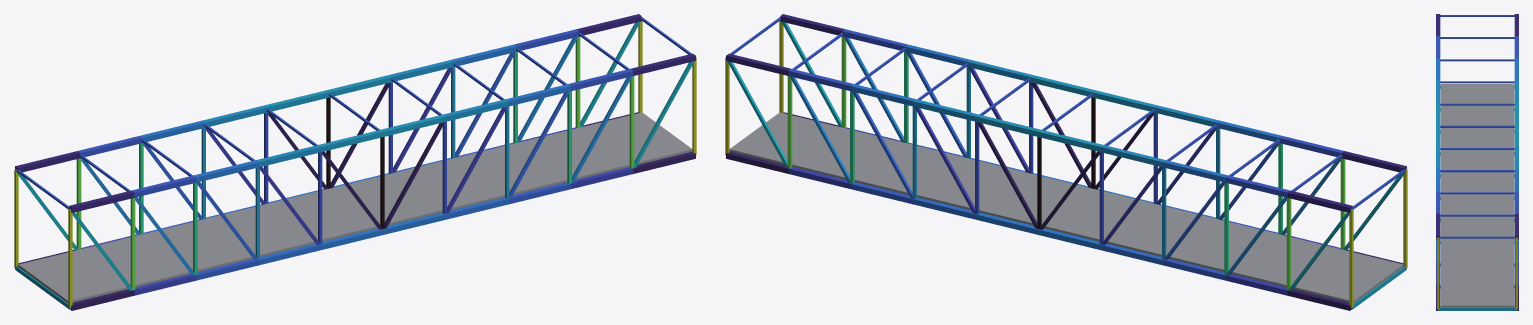
Rendered from 20_3_10_HEA160.glb.
3 views of the same model, side by side, from view 1: azimuth 30°, elevation 25°; view 2: azimuth 150°, elevation 25°; view 3: azimuth 270°, elevation 25° (orthographic). The views are drawn at different scales.
Size of the model in its own units: 20.09 by 3.16 by 3.16.
